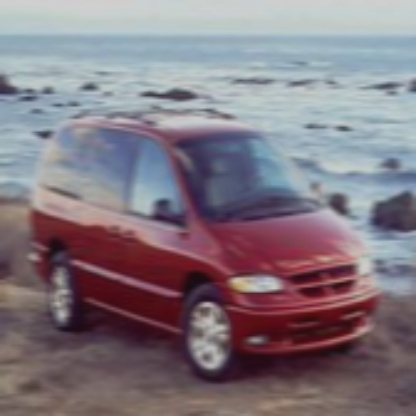Vehicle: (26, 103, 385, 386)
